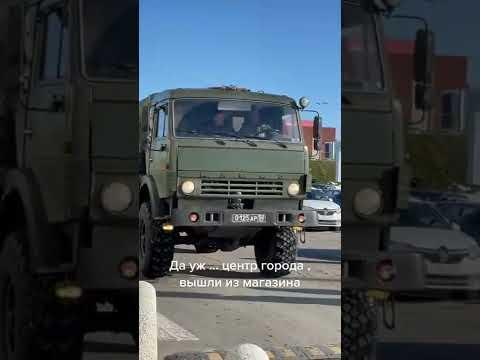truck: (138, 82, 316, 283)
